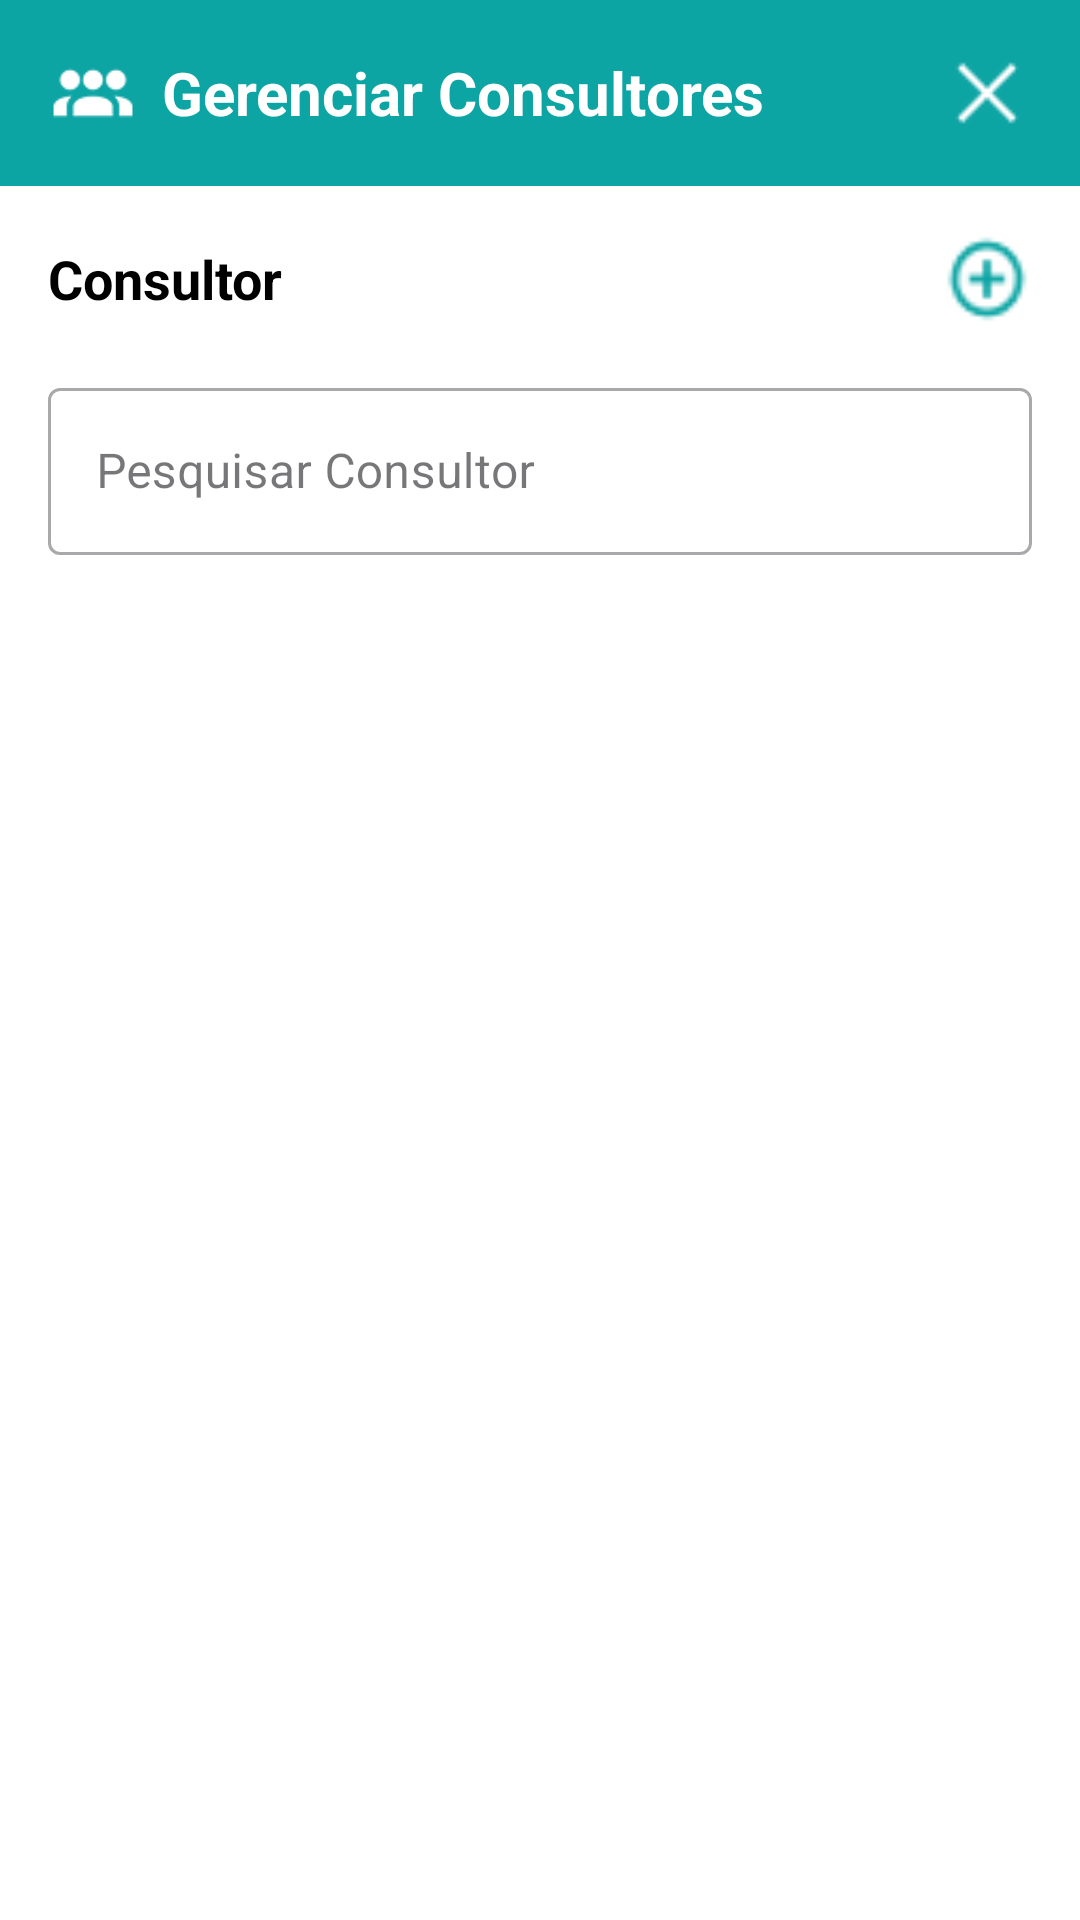

Point at icon controls on the screen. Image size 1080×1920, points as [x,y].
add consultant: [987,279]
close: [987,93]
management: [93,93]
